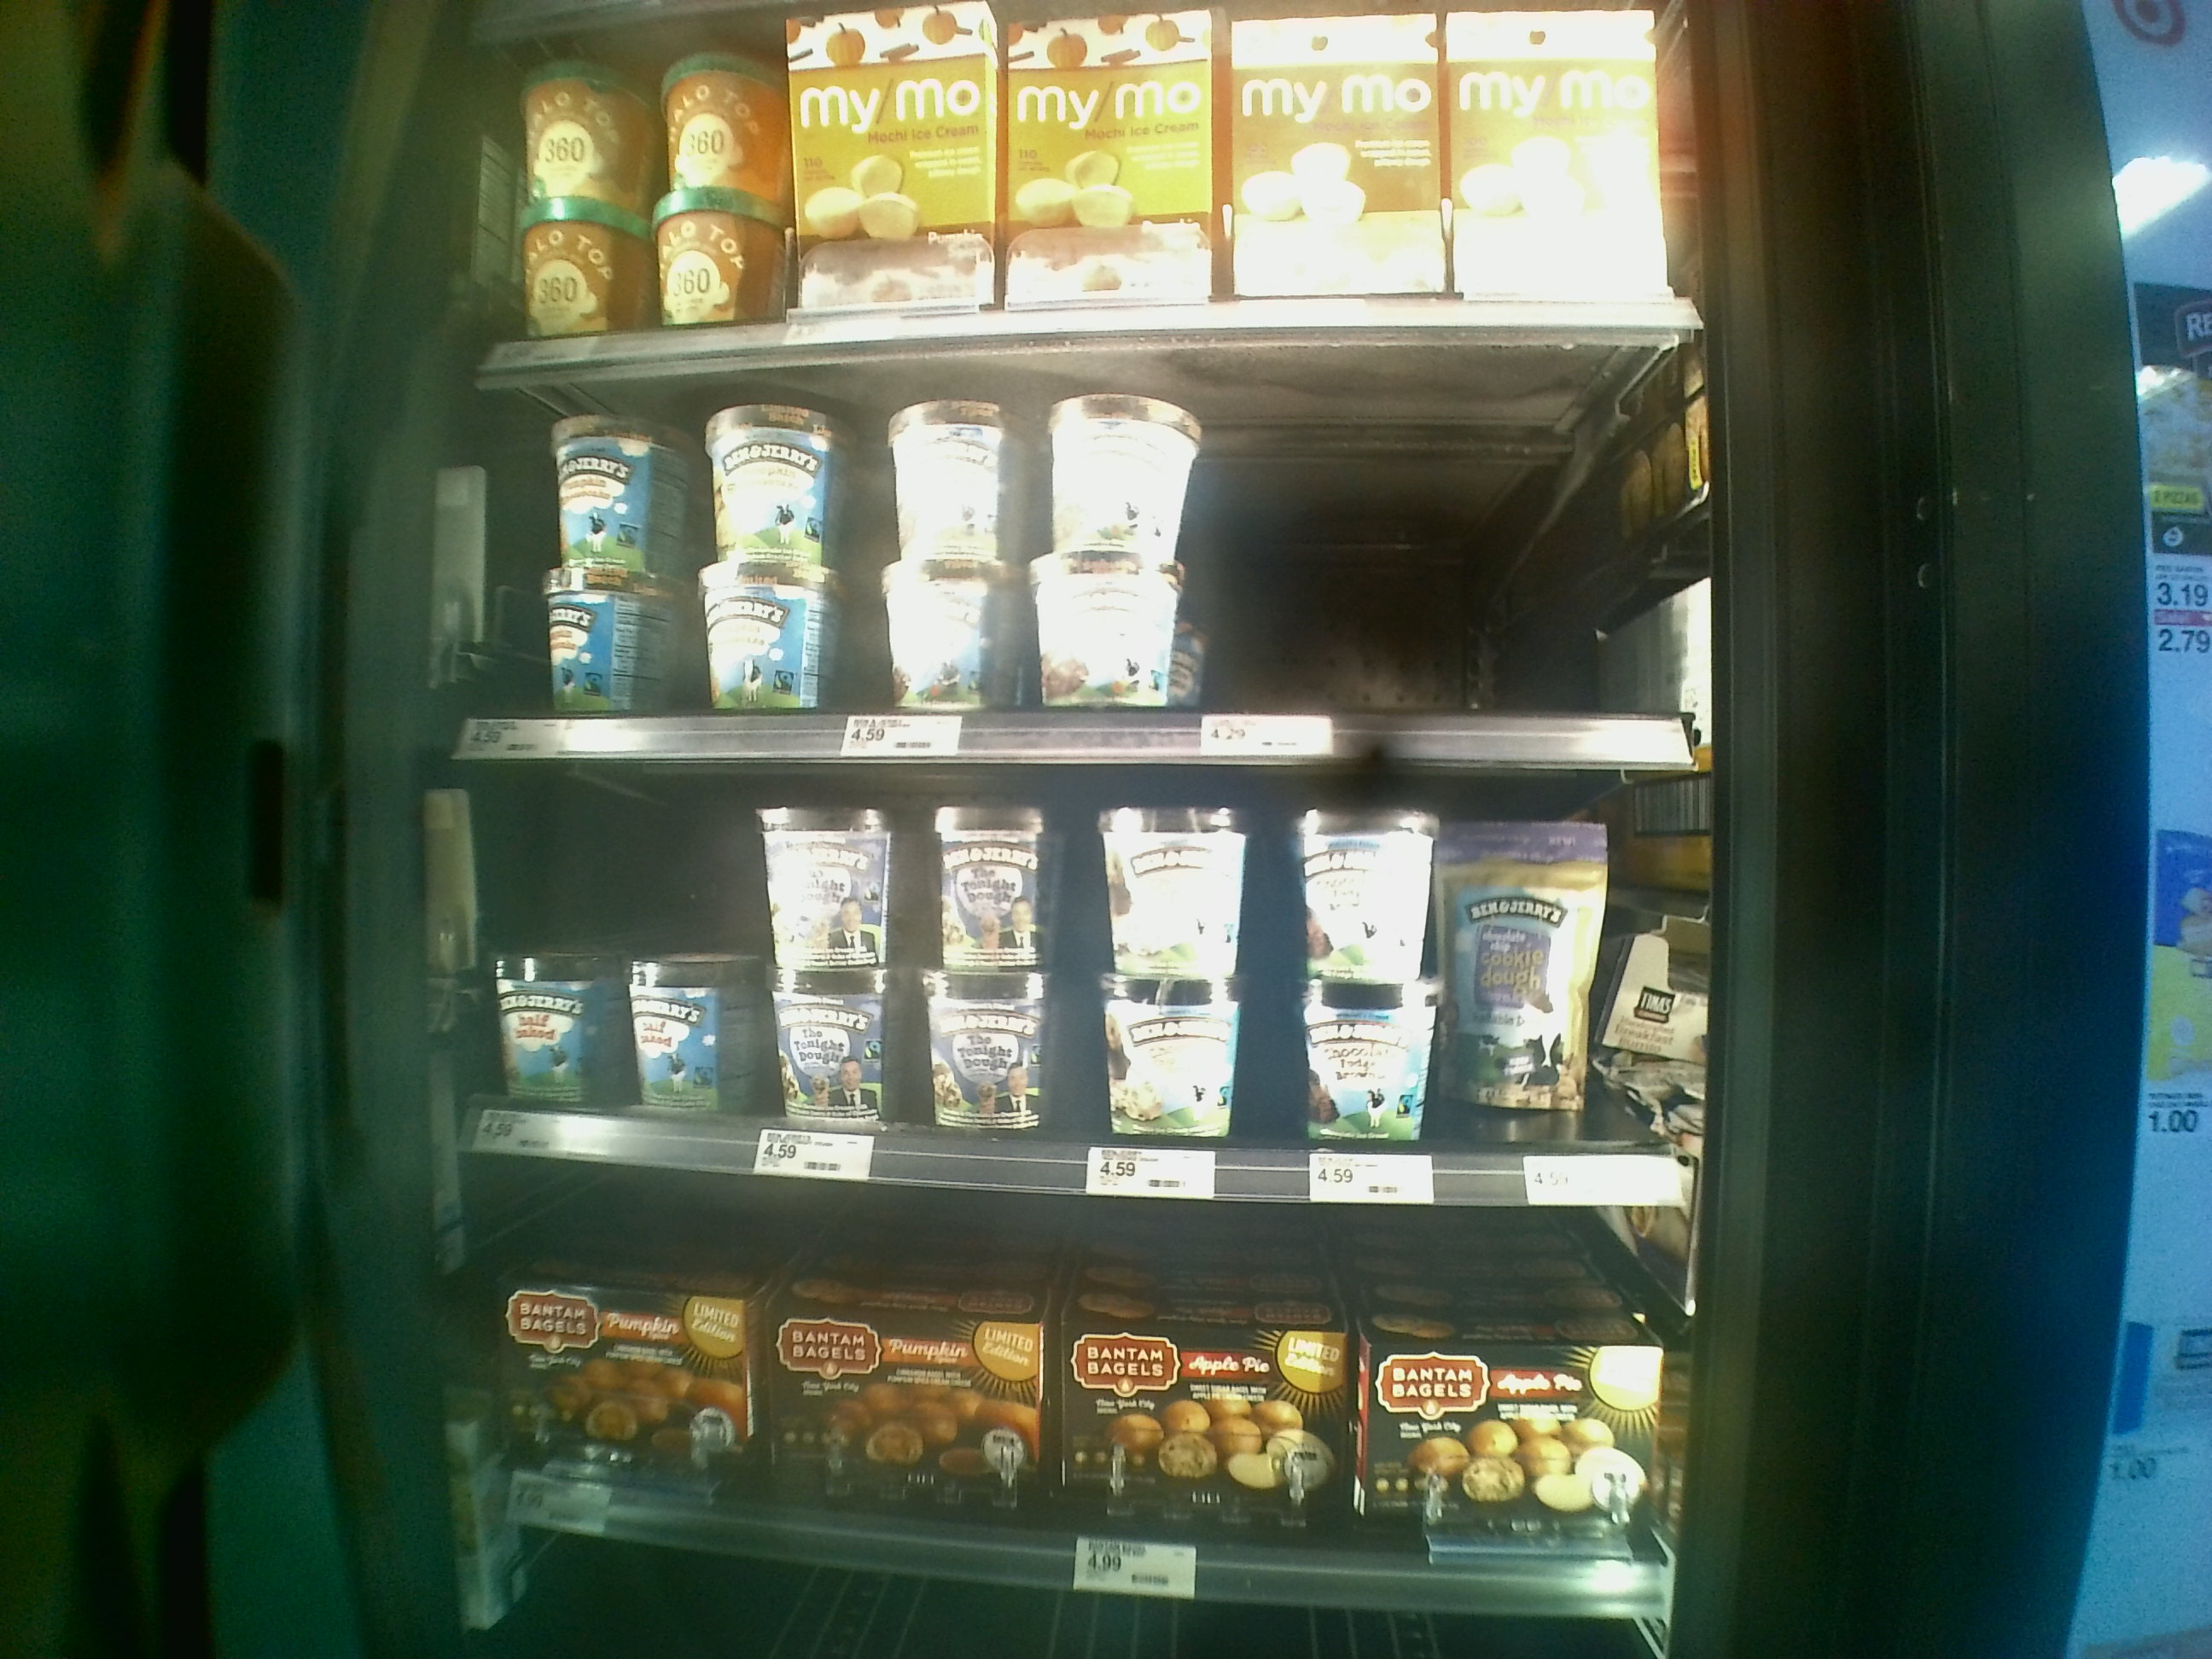shelf: (451, 732, 1684, 1202), (427, 1140, 1651, 1593), (467, 369, 1716, 753)
